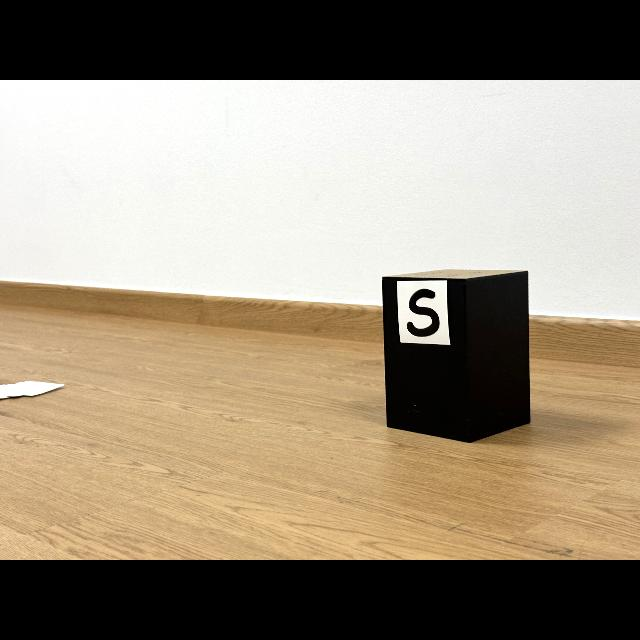S: (406, 289, 440, 336)
